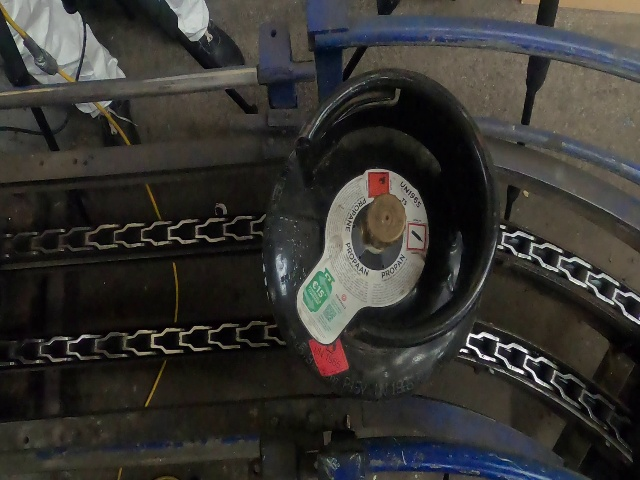gas_bottle: (0, 2, 632, 480)
